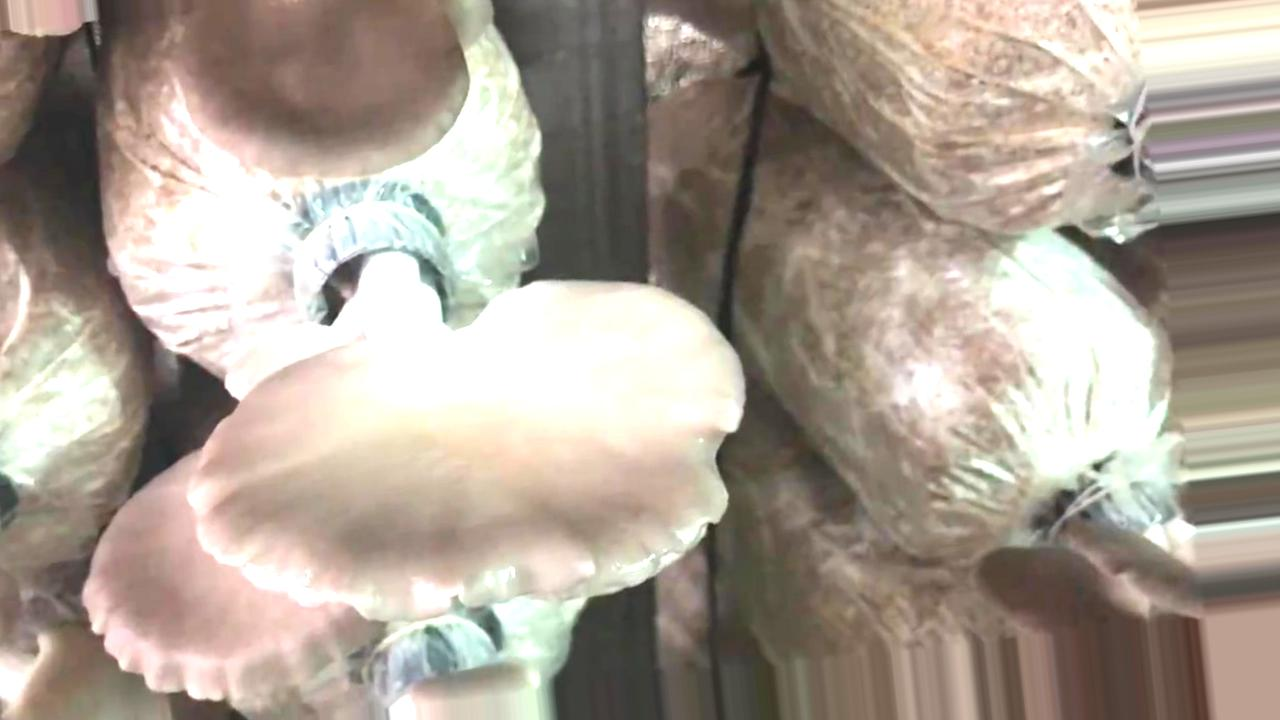nam: (191, 187, 750, 632), (80, 443, 406, 706), (175, 1, 473, 180), (978, 459, 1209, 627)
